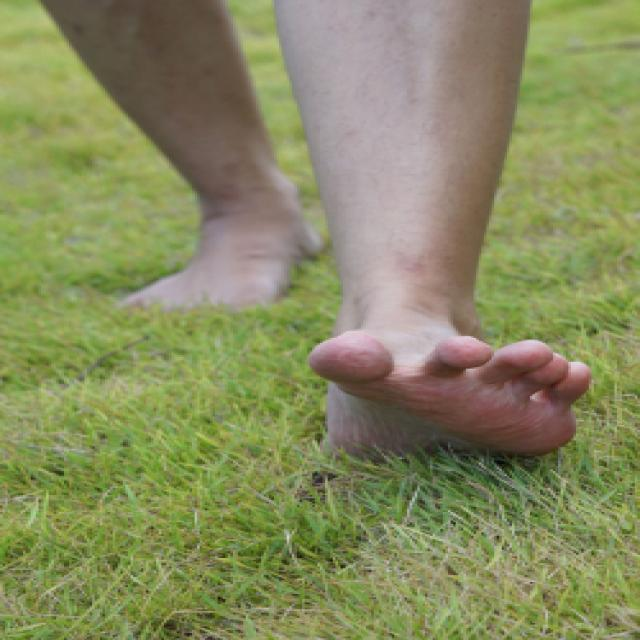no_boots: (296, 282, 602, 470), (104, 176, 339, 326)
